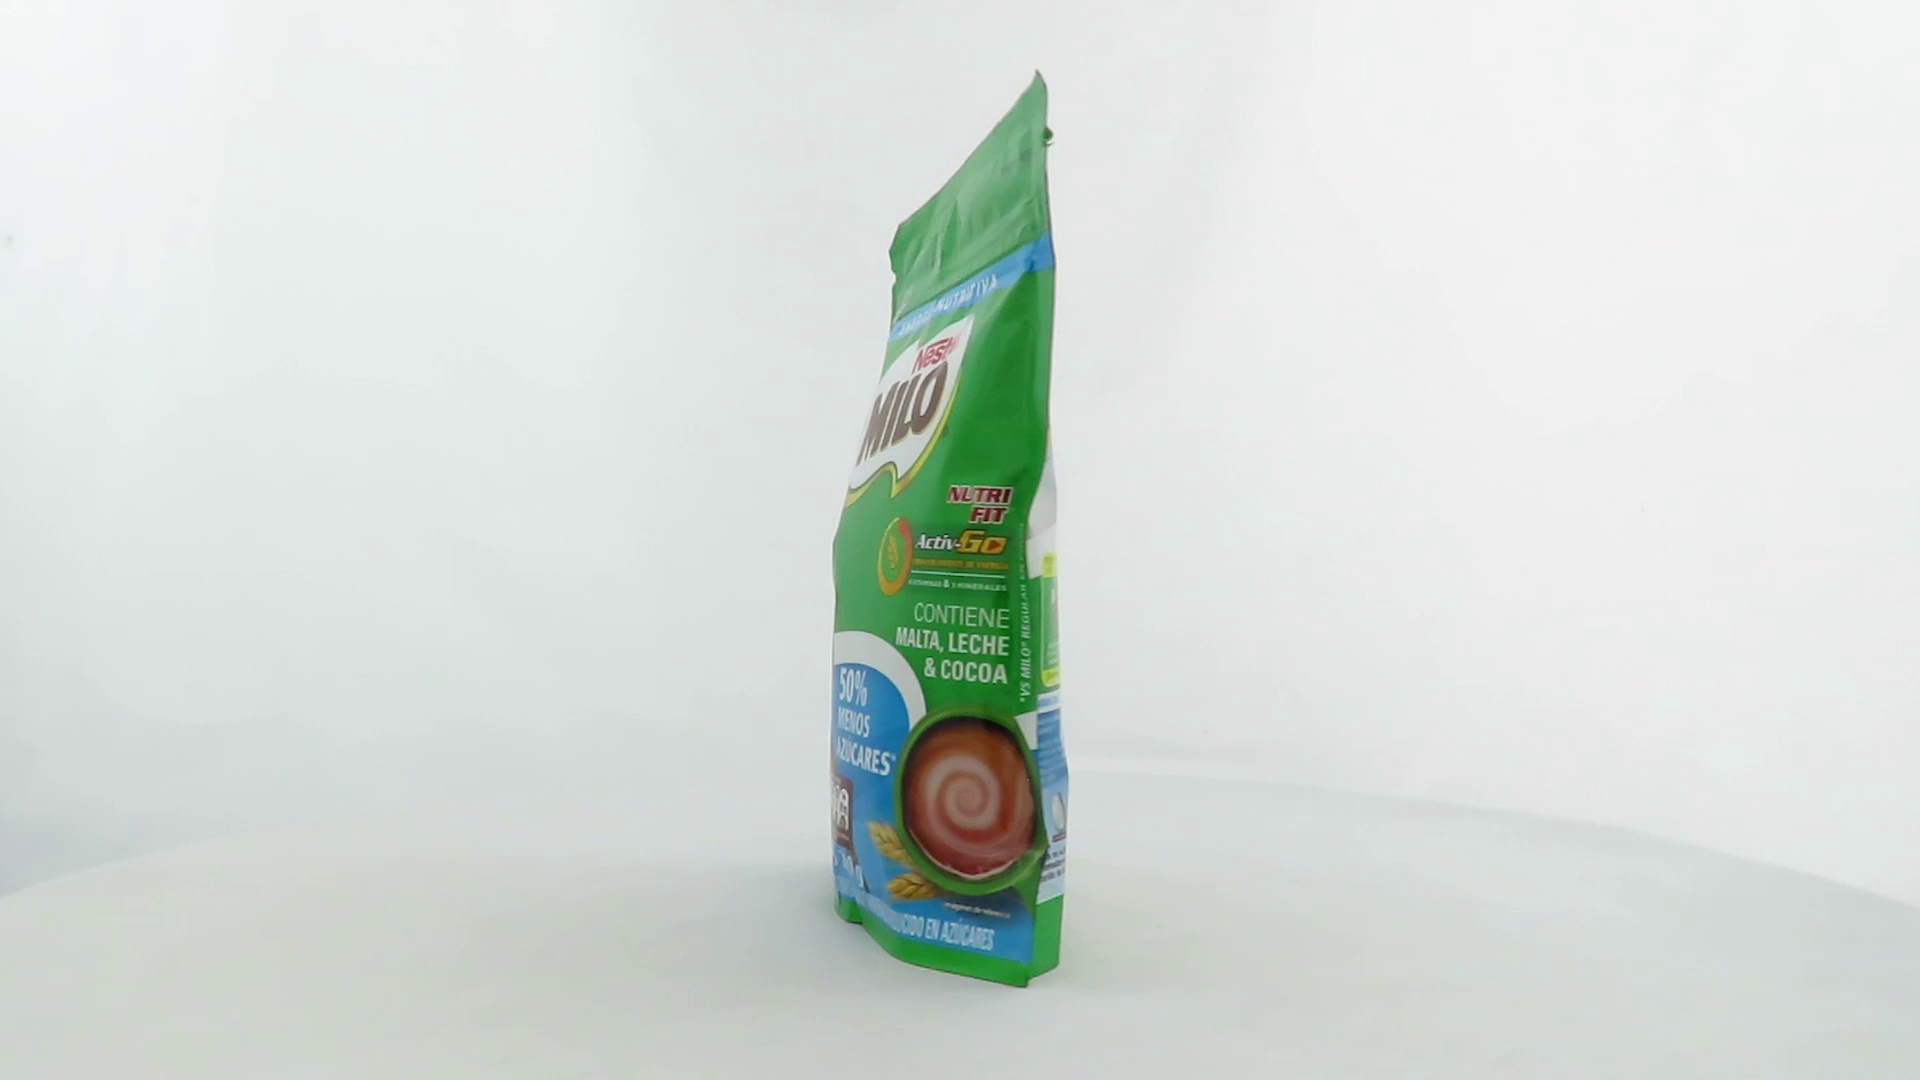COL0170205DYP20000: (824, 65, 1075, 996)
